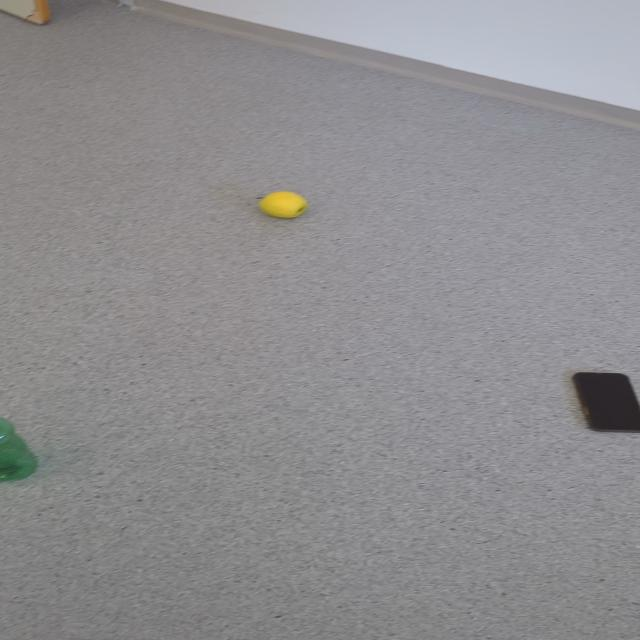apple: (256, 190, 308, 219)
bottle: (0, 417, 38, 482)
phone: (570, 372, 638, 432)
